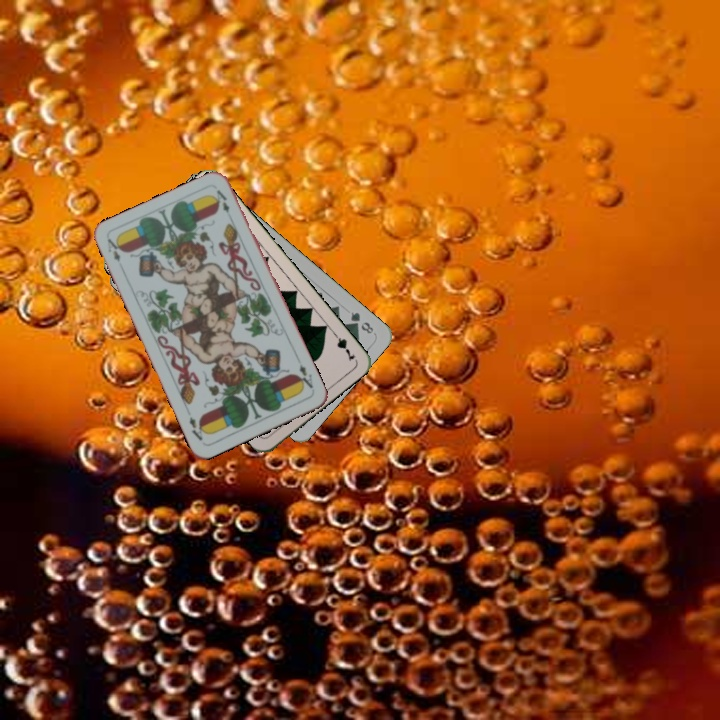EA: (103, 234, 126, 273), (293, 355, 316, 392)
G7: (328, 327, 358, 364)
G8: (346, 308, 376, 337)
